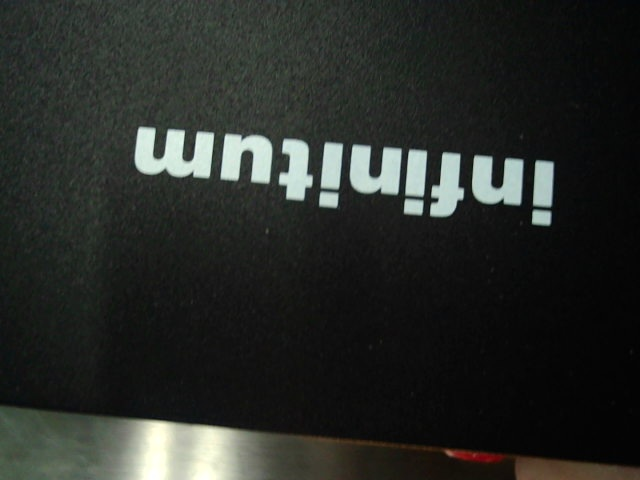BK_infinitum: (127, 113, 572, 227)
